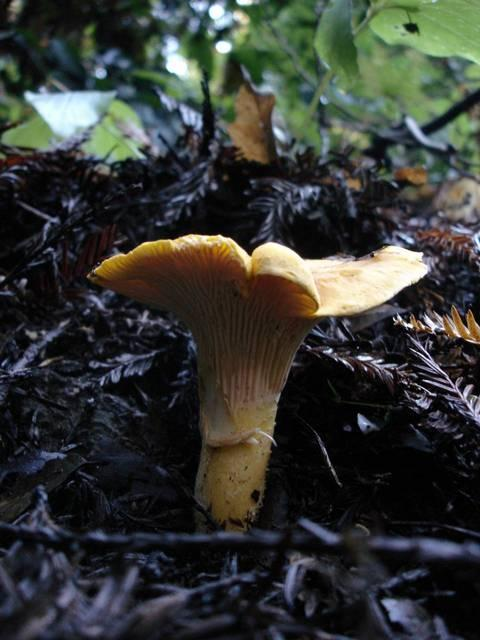Edible Mushroom: (85, 231, 428, 536)
